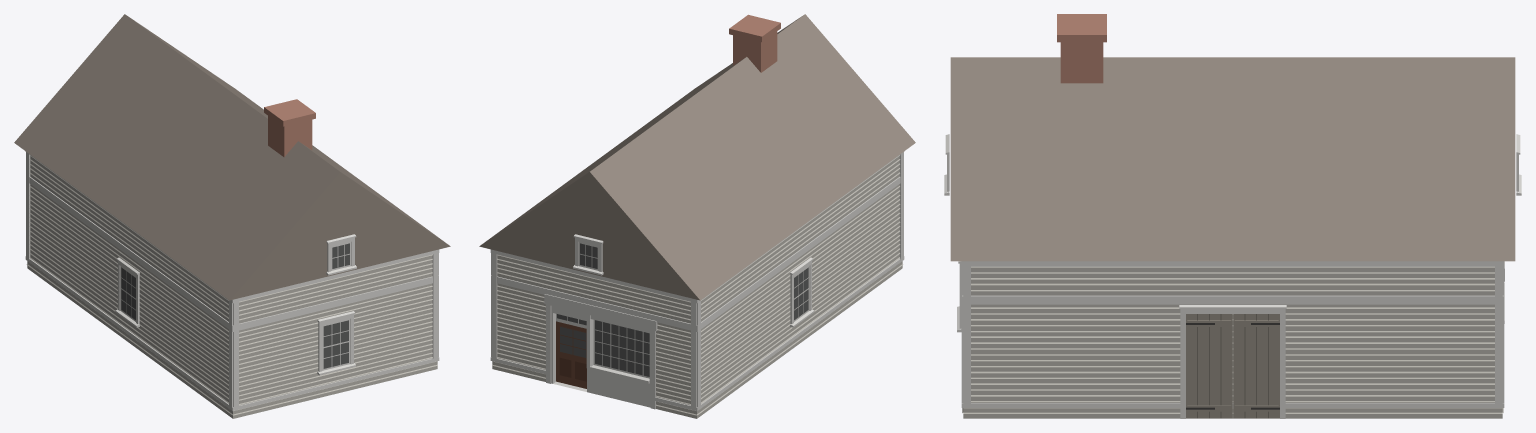
Rendered from recon_1835_core_c2_017__inferred_1835.glb.
3 renders of one model, left to right at view 1: azimuth 30°, elevation 25°; view 2: azimuth 150°, elevation 25°; view 3: azimuth 270°, elevation 25°, orthographic. The views are drawn at different scales.
Visible parts, largest first — view 1: recon_1835_core_c2_017__inferred_1835; view 2: recon_1835_core_c2_017__inferred_1835; view 3: recon_1835_core_c2_017__inferred_1835.
Part boxes in pixels (x1,y1,x2,y2): recon_1835_core_c2_017__inferred_1835: (14, 14, 450, 418); recon_1835_core_c2_017__inferred_1835: (479, 14, 915, 418); recon_1835_core_c2_017__inferred_1835: (944, 14, 1521, 418).
Size of the model in its own units: 6.59 by 7.13 by 11.36.
